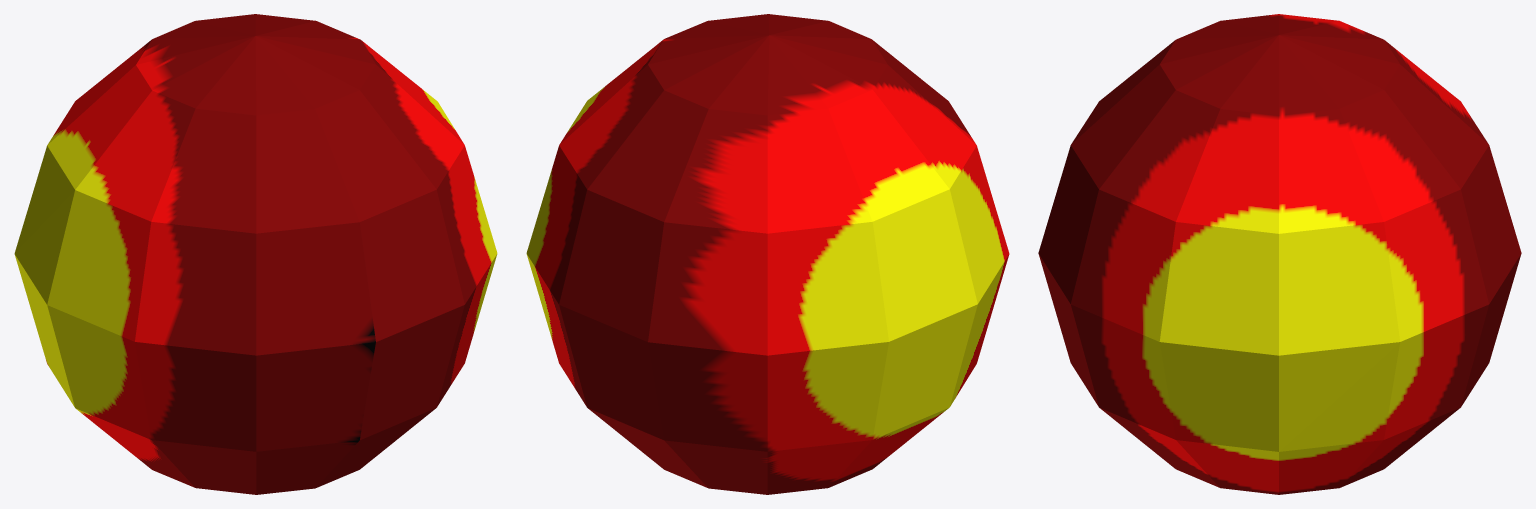
File: BBomb.glb
The picture shows the model from 3 angles, left to right: view 1: azimuth 30°, elevation 25°; view 2: azimuth 150°, elevation 25°; view 3: azimuth 270°, elevation 25°; orthographic projection.
Parts seen in each view (by area): view 1: BBomb; view 2: BBomb; view 3: BBomb.
Boxes of the visible parts, x1,y1,x2,y2 form: BBomb: (14, 14, 497, 494); BBomb: (526, 14, 1009, 494); BBomb: (1038, 14, 1521, 494).
Size of the model in its own units: 4251 by 4251 by 4251.
Materials: 1 (1 with a texture image).
